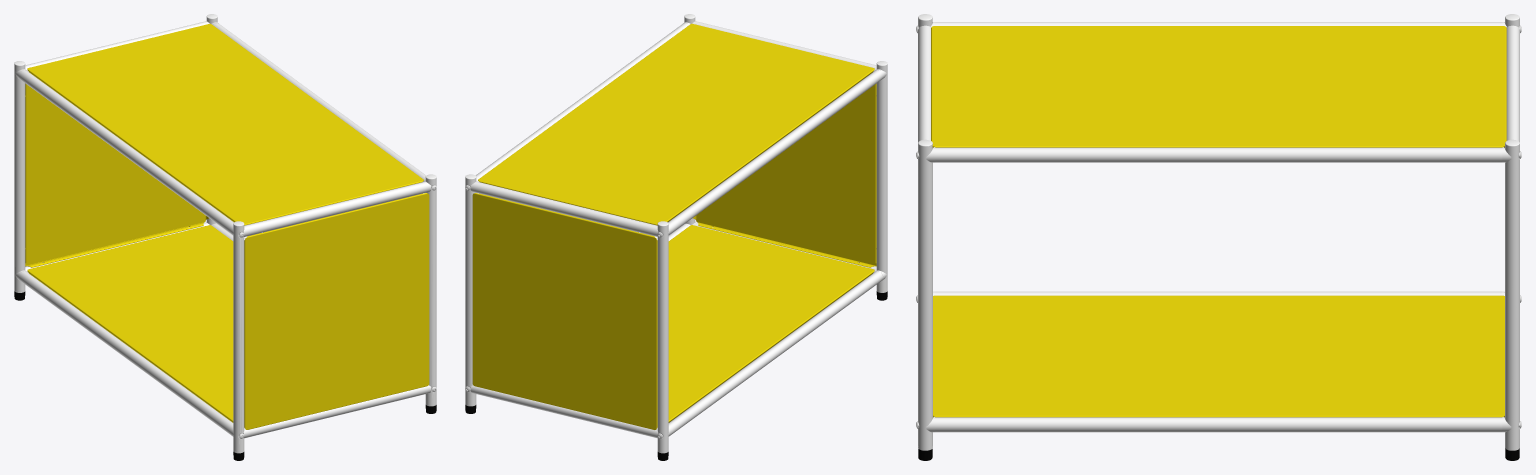
File: 80x40x40-1-8-yellow_optimized_optimized.glb
The picture shows the model from 3 angles, left to right: view 1: azimuth 30°, elevation 25°; view 2: azimuth 150°, elevation 25°; view 3: azimuth 270°, elevation 25°; orthographic projection. The views are drawn at different scales.
Parts seen in each view (by area): view 1: 直角鐵板-80x40-5 - 零件, new-上塞-1 - 零件; view 2: 直角鐵板-80x40-5 - 零件, new-上塞-1 - 零件; view 3: 直角鐵板-80x40-5 - 零件, new-上塞-1 - 零件.
Boxes of the visible parts, x1,y1,x2,y2 form: 直角鐵板-80x40-5 - 零件: (25,23,429,429); new-上塞-1 - 零件: (14,14,436,453); 直角鐵板-80x40-5 - 零件: (472,23,876,429); new-上塞-1 - 零件: (465,14,887,453); 直角鐵板-80x40-5 - 零件: (931,26,1506,417); new-上塞-1 - 零件: (916,14,1521,450).
Bounding box in the file's own units: 0.3992 × 0.4453 × 0.7732.
